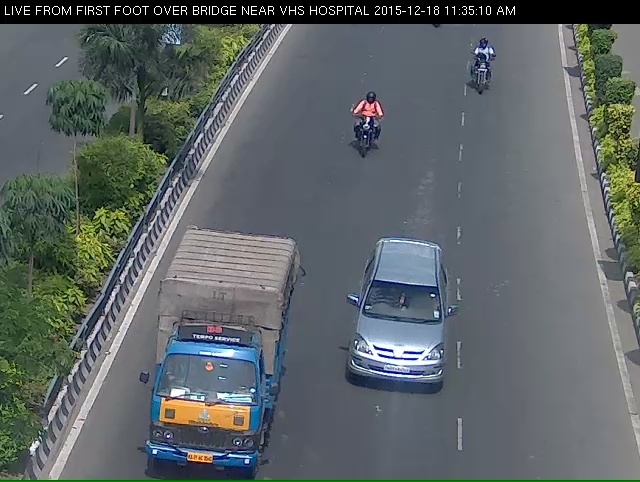Bus: (139, 249, 281, 480)
Car: (351, 255, 459, 427)
Person: (337, 97, 390, 188), (469, 43, 505, 121)
